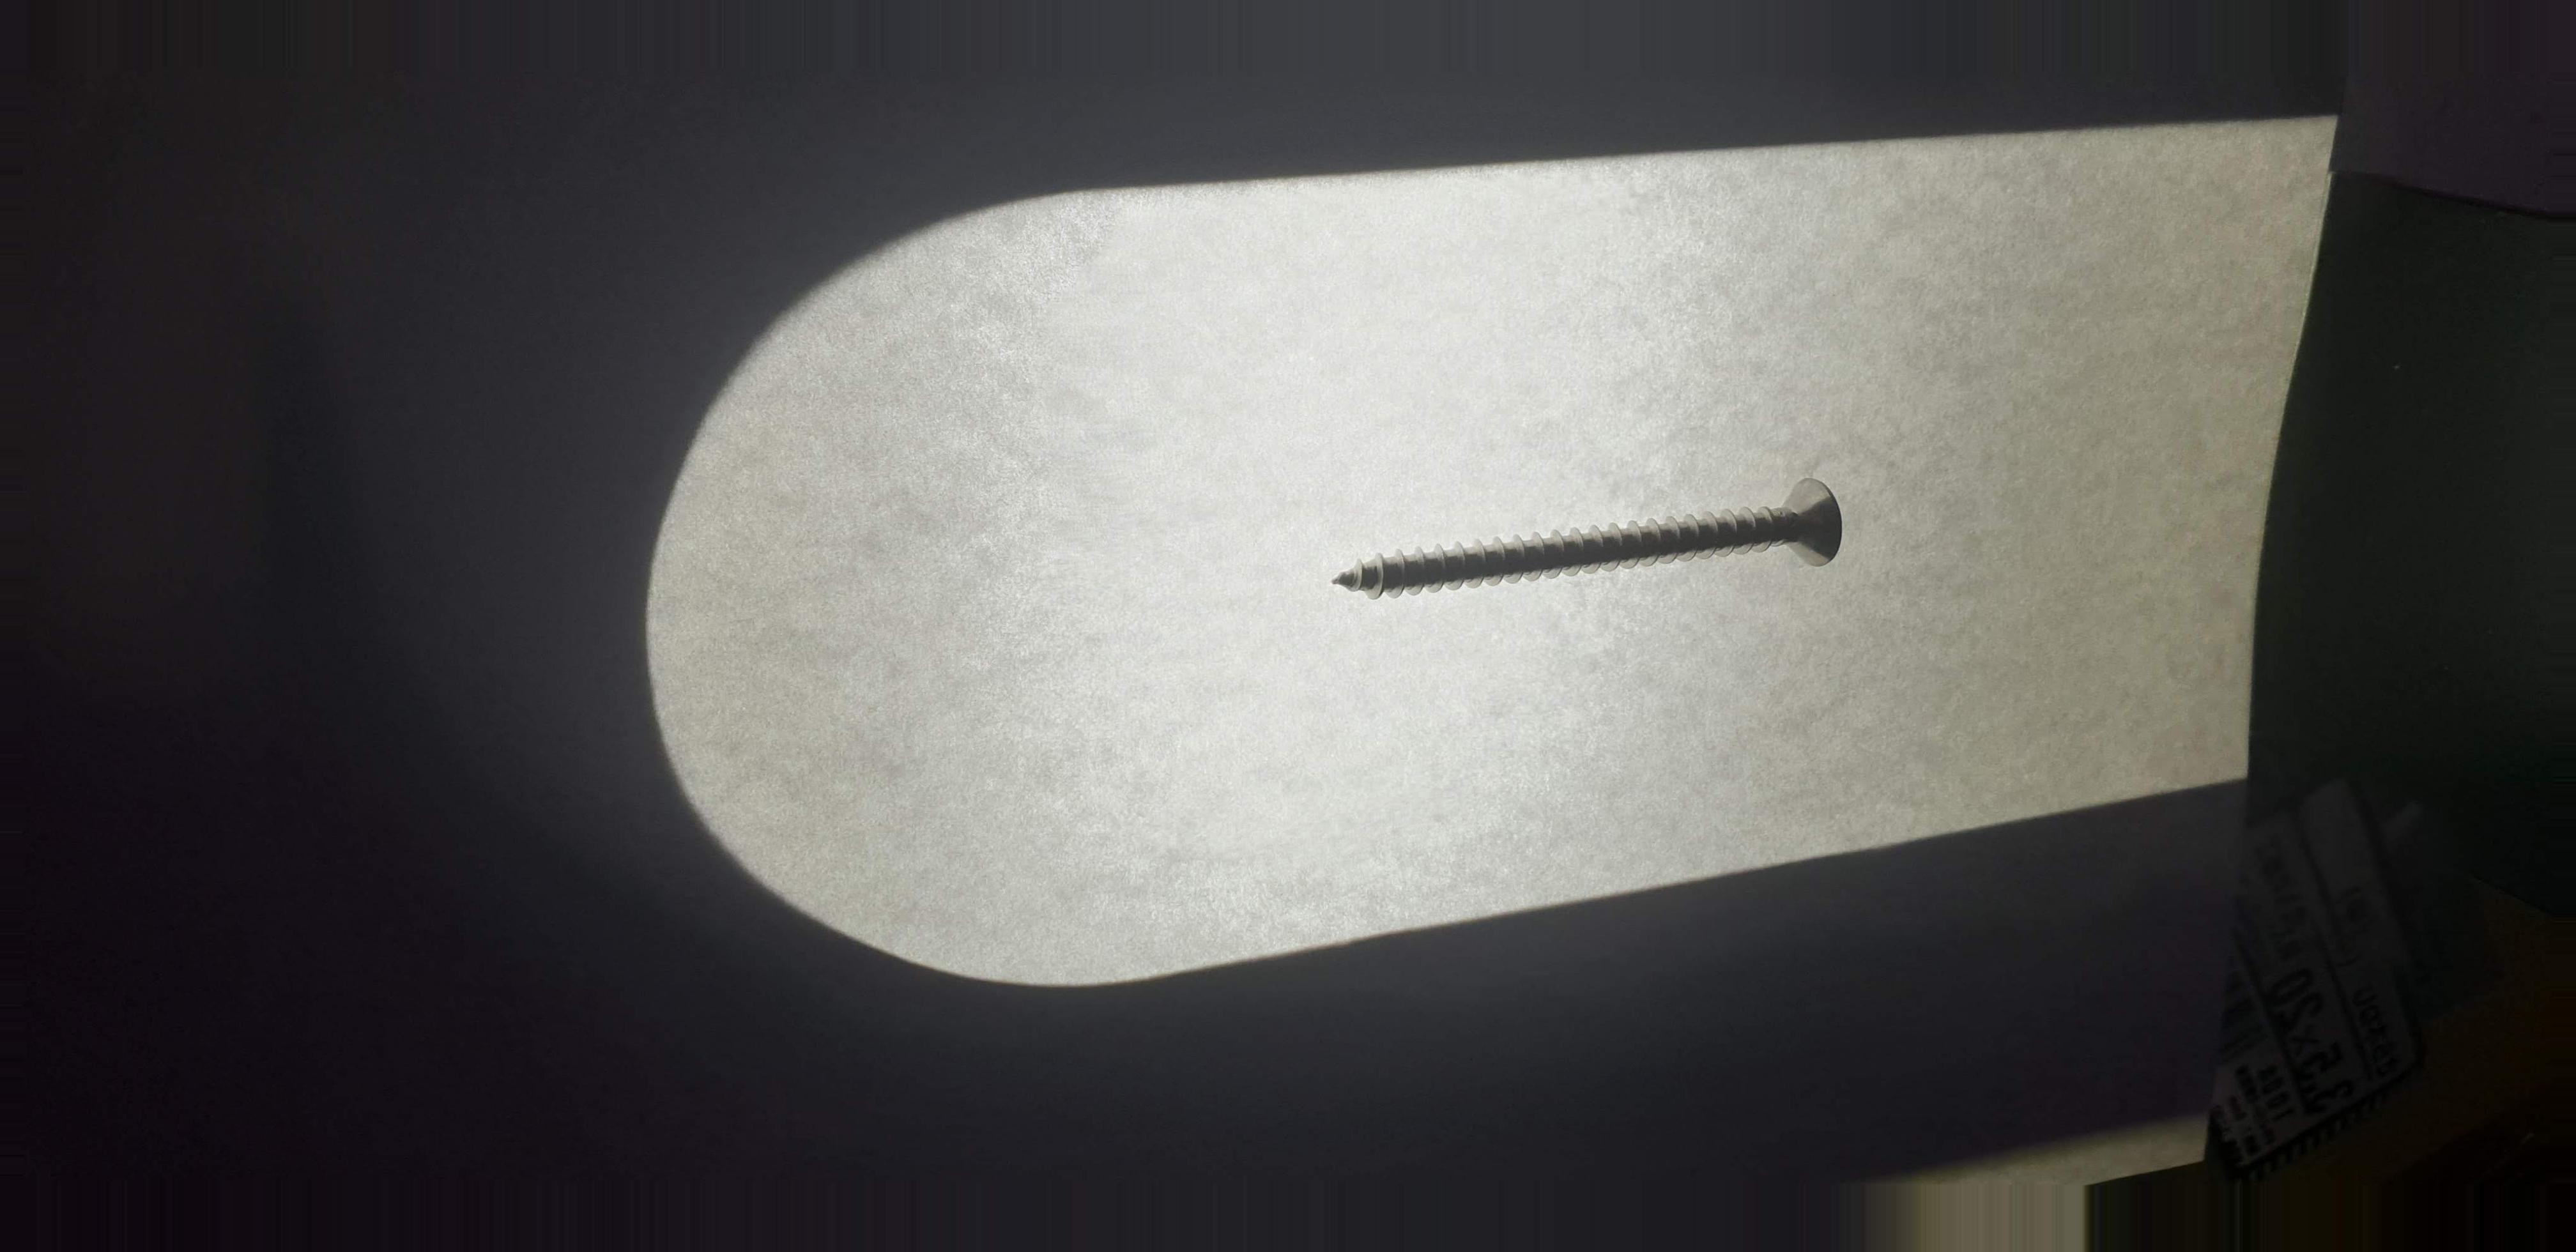S001: (1304, 457, 1884, 618)
